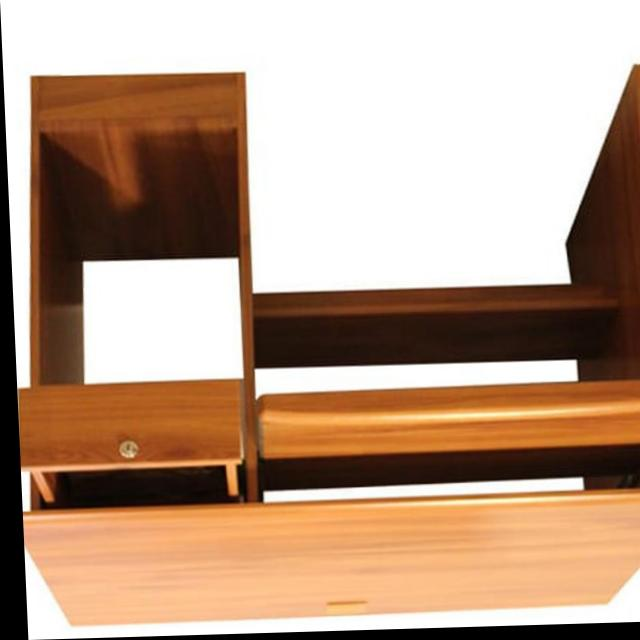Table: (1, 25, 640, 640)
